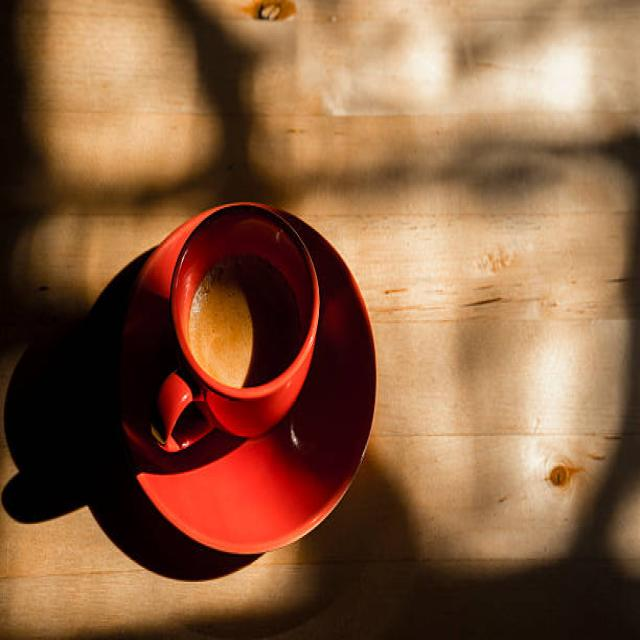Red_cup: (153, 203, 319, 451)
